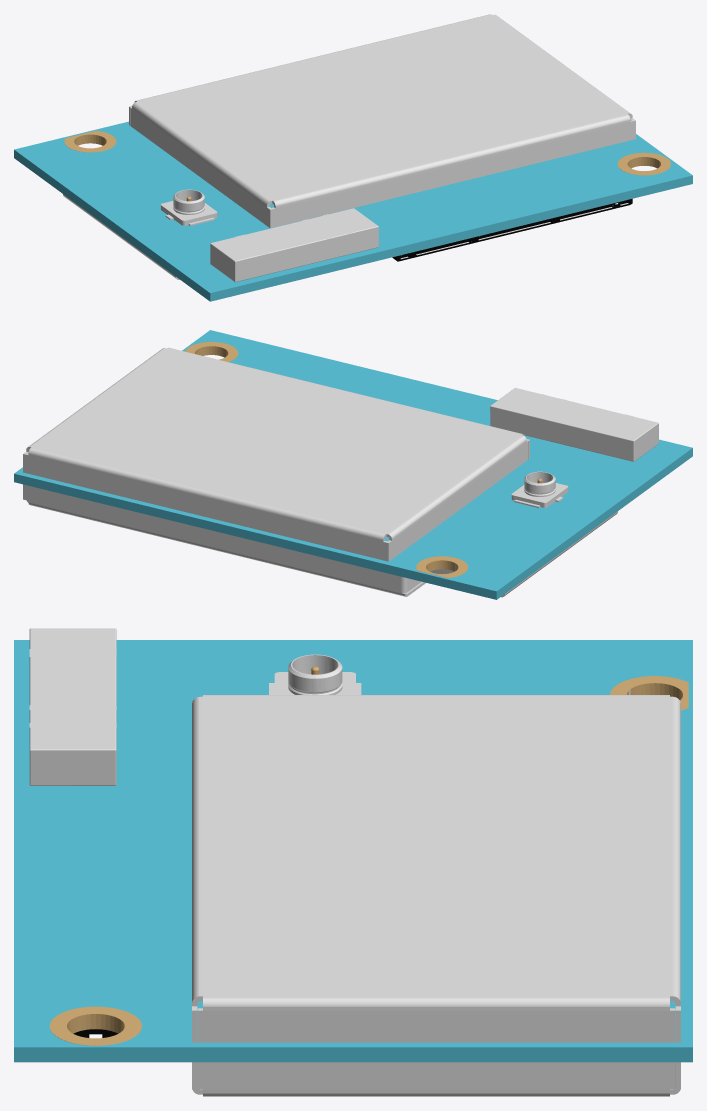
Rendered from Intel_Edison.dae.
3 renders of one model, top to bottom at view 1: azimuth 30°, elevation 25°; view 2: azimuth 150°, elevation 25°; view 3: azimuth 270°, elevation 25°, orthographic. The views are drawn at different scales.
Visible parts, largest first — view 1: Intel_Edison; view 2: Intel_Edison; view 3: Intel_Edison.
Boxes of the visible parts, x1=… form: Intel_Edison: x1=14, y1=14, x2=692, y2=301; Intel_Edison: x1=14, y1=330, x2=692, y2=599; Intel_Edison: x1=14, y1=628, x2=692, y2=1096.
Bounding box in the file's own units: 35.5 × 25 × 4.
